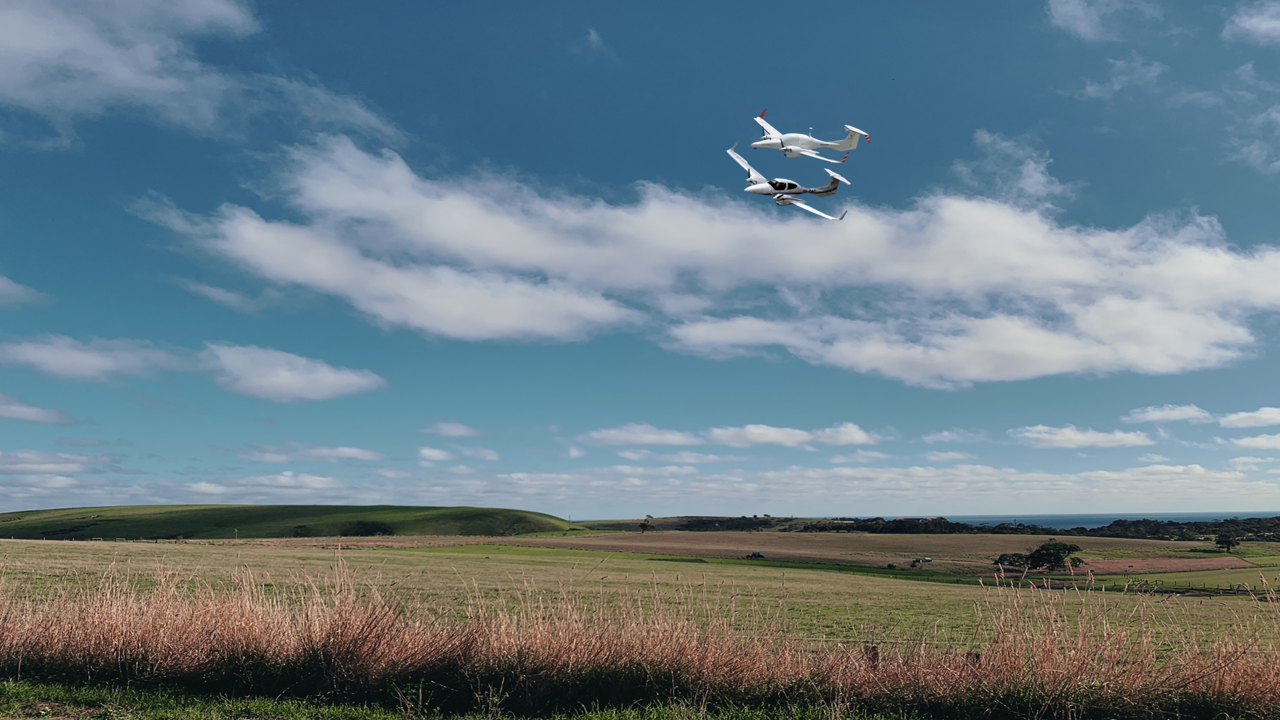military drone: (726, 140, 851, 221), (750, 108, 871, 164)
